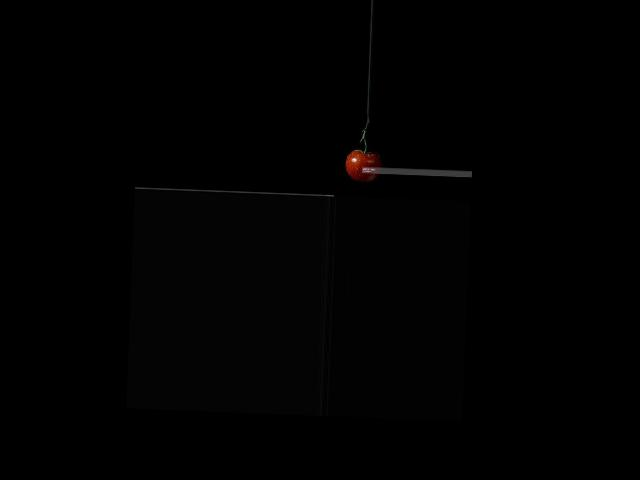tomato: (345, 150, 381, 181)
